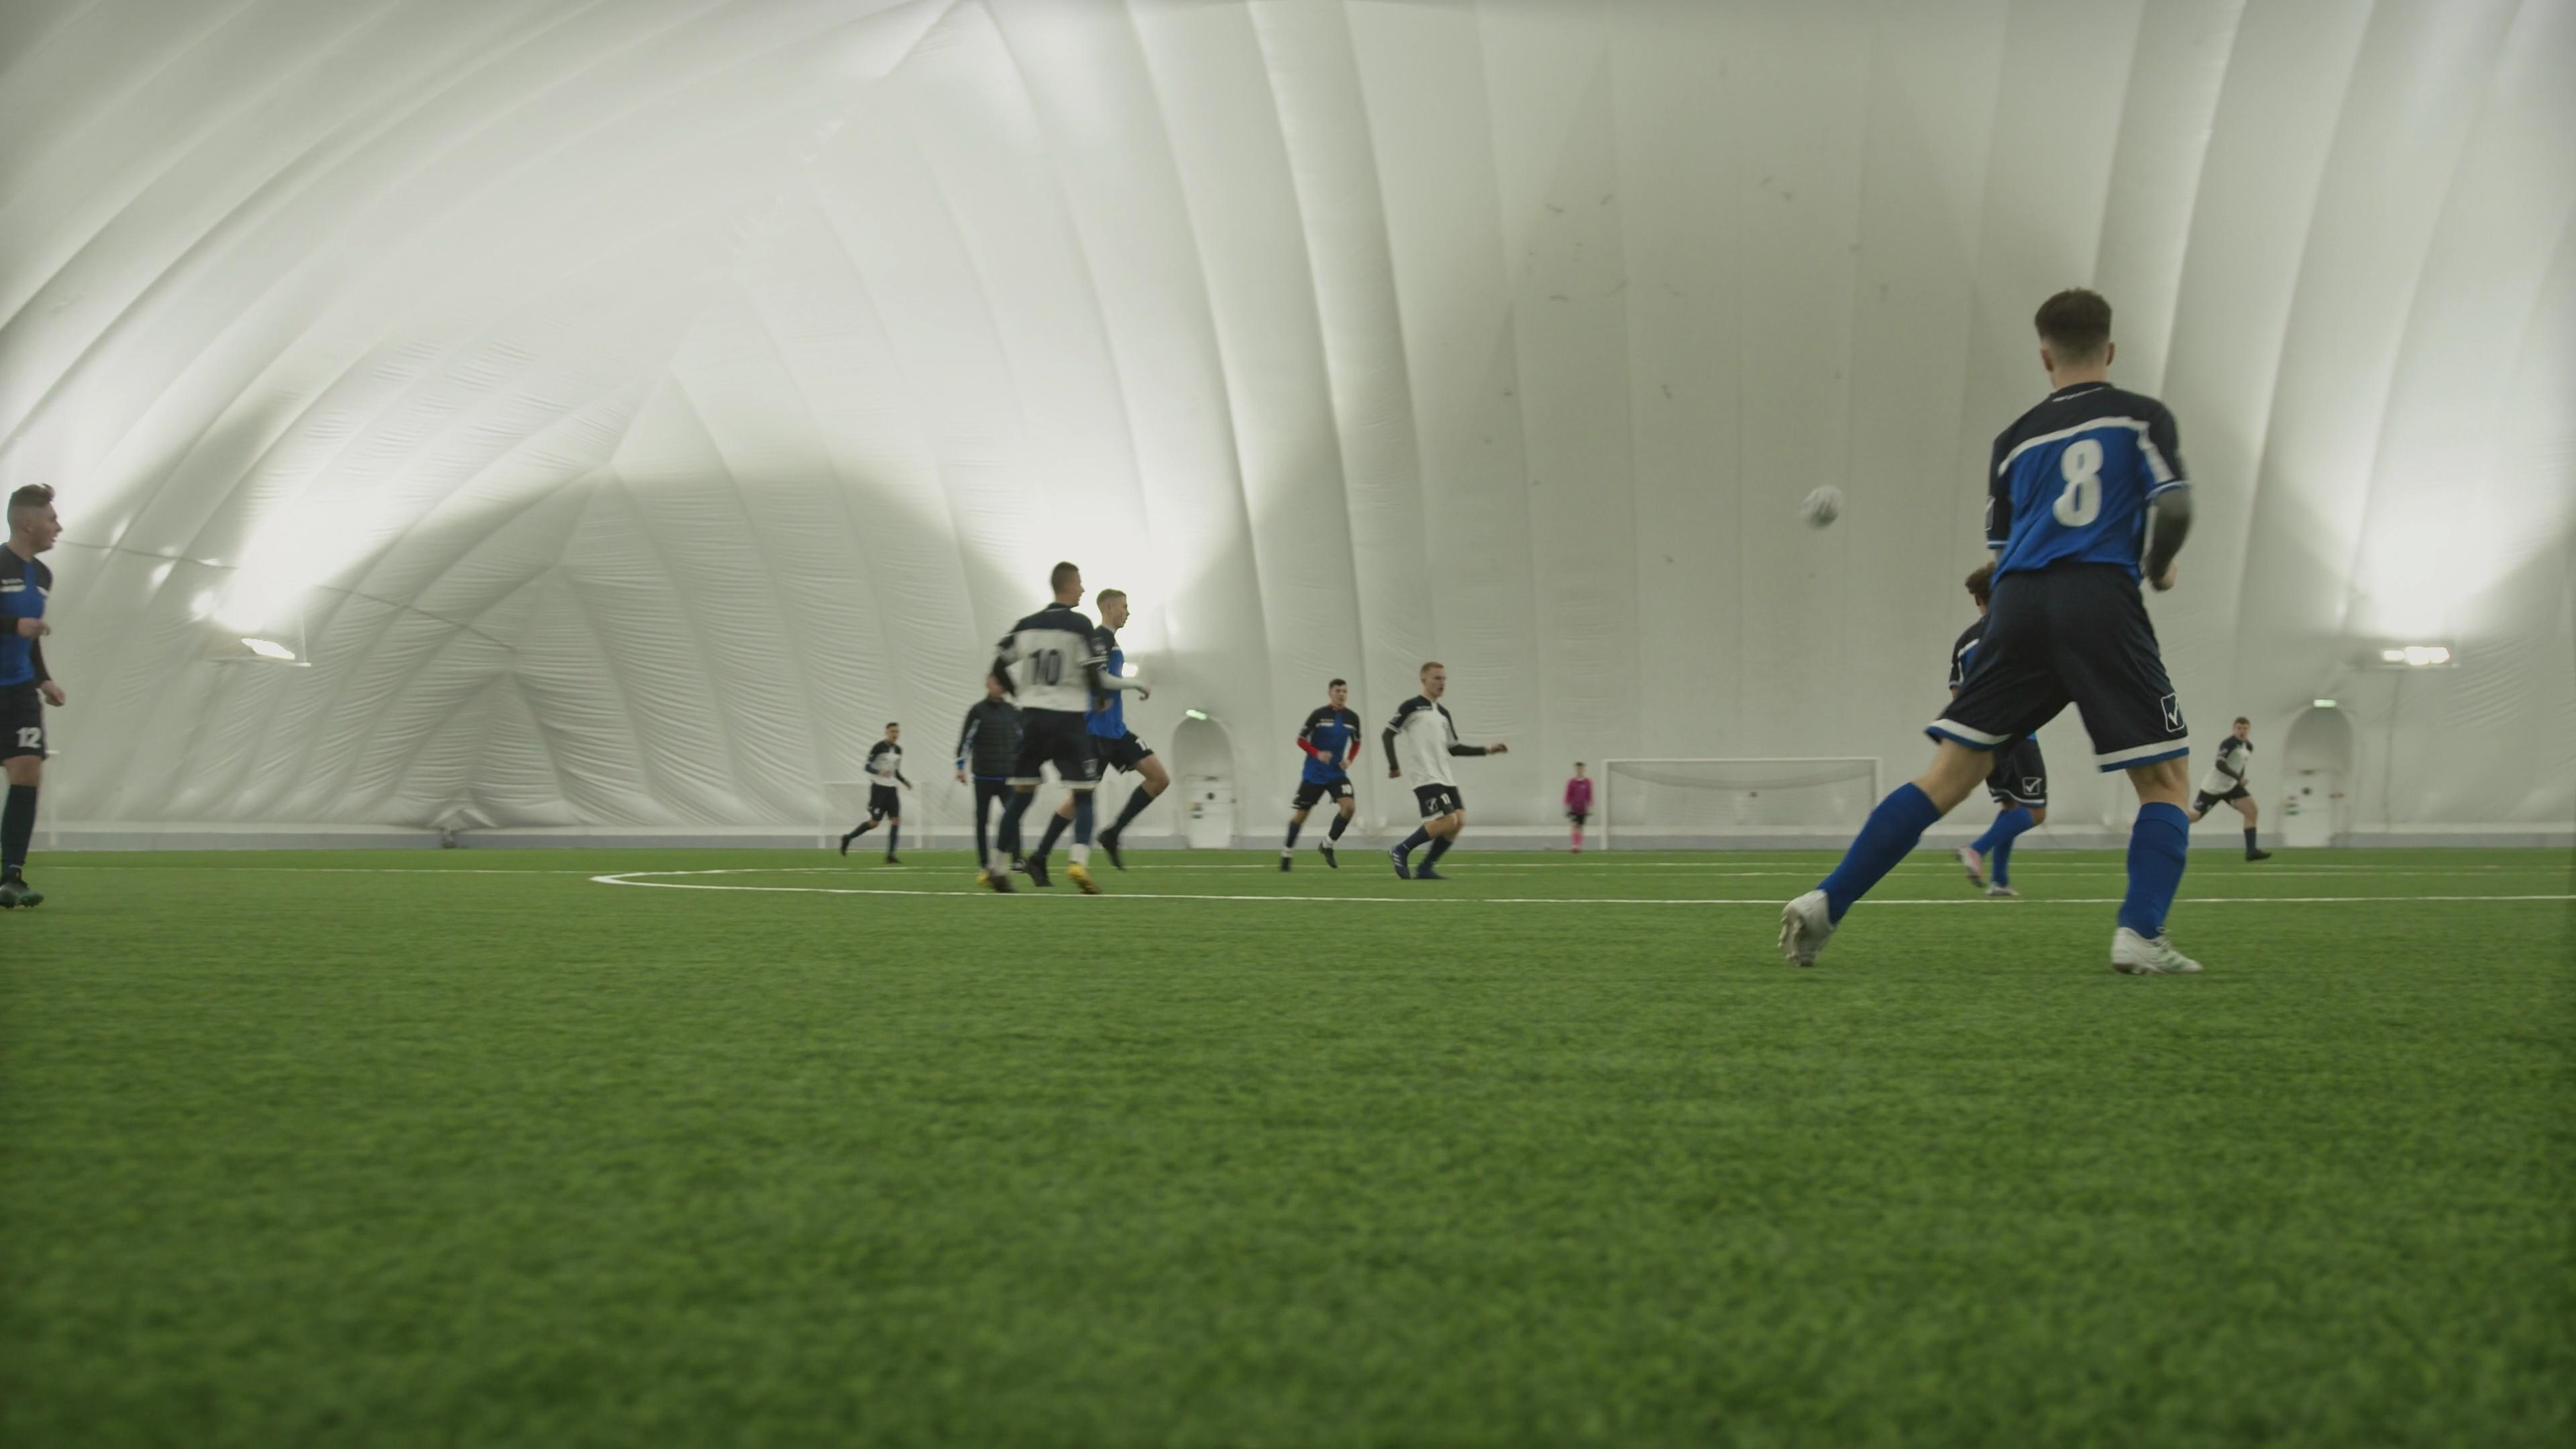other: (955, 669, 1026, 888)
team1: (1776, 287, 2204, 980), (0, 481, 67, 911), (1088, 586, 1168, 865), (1276, 676, 1362, 874)
team1gk: (1562, 759, 1599, 853)
team2: (989, 561, 1127, 892), (1382, 658, 1513, 883), (830, 722, 913, 862), (2208, 715, 2263, 860)
